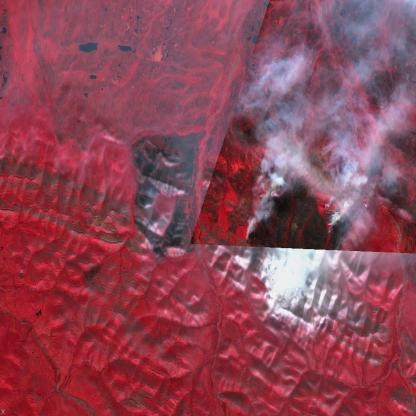fire: (241, 186, 275, 249), (319, 202, 360, 249)
